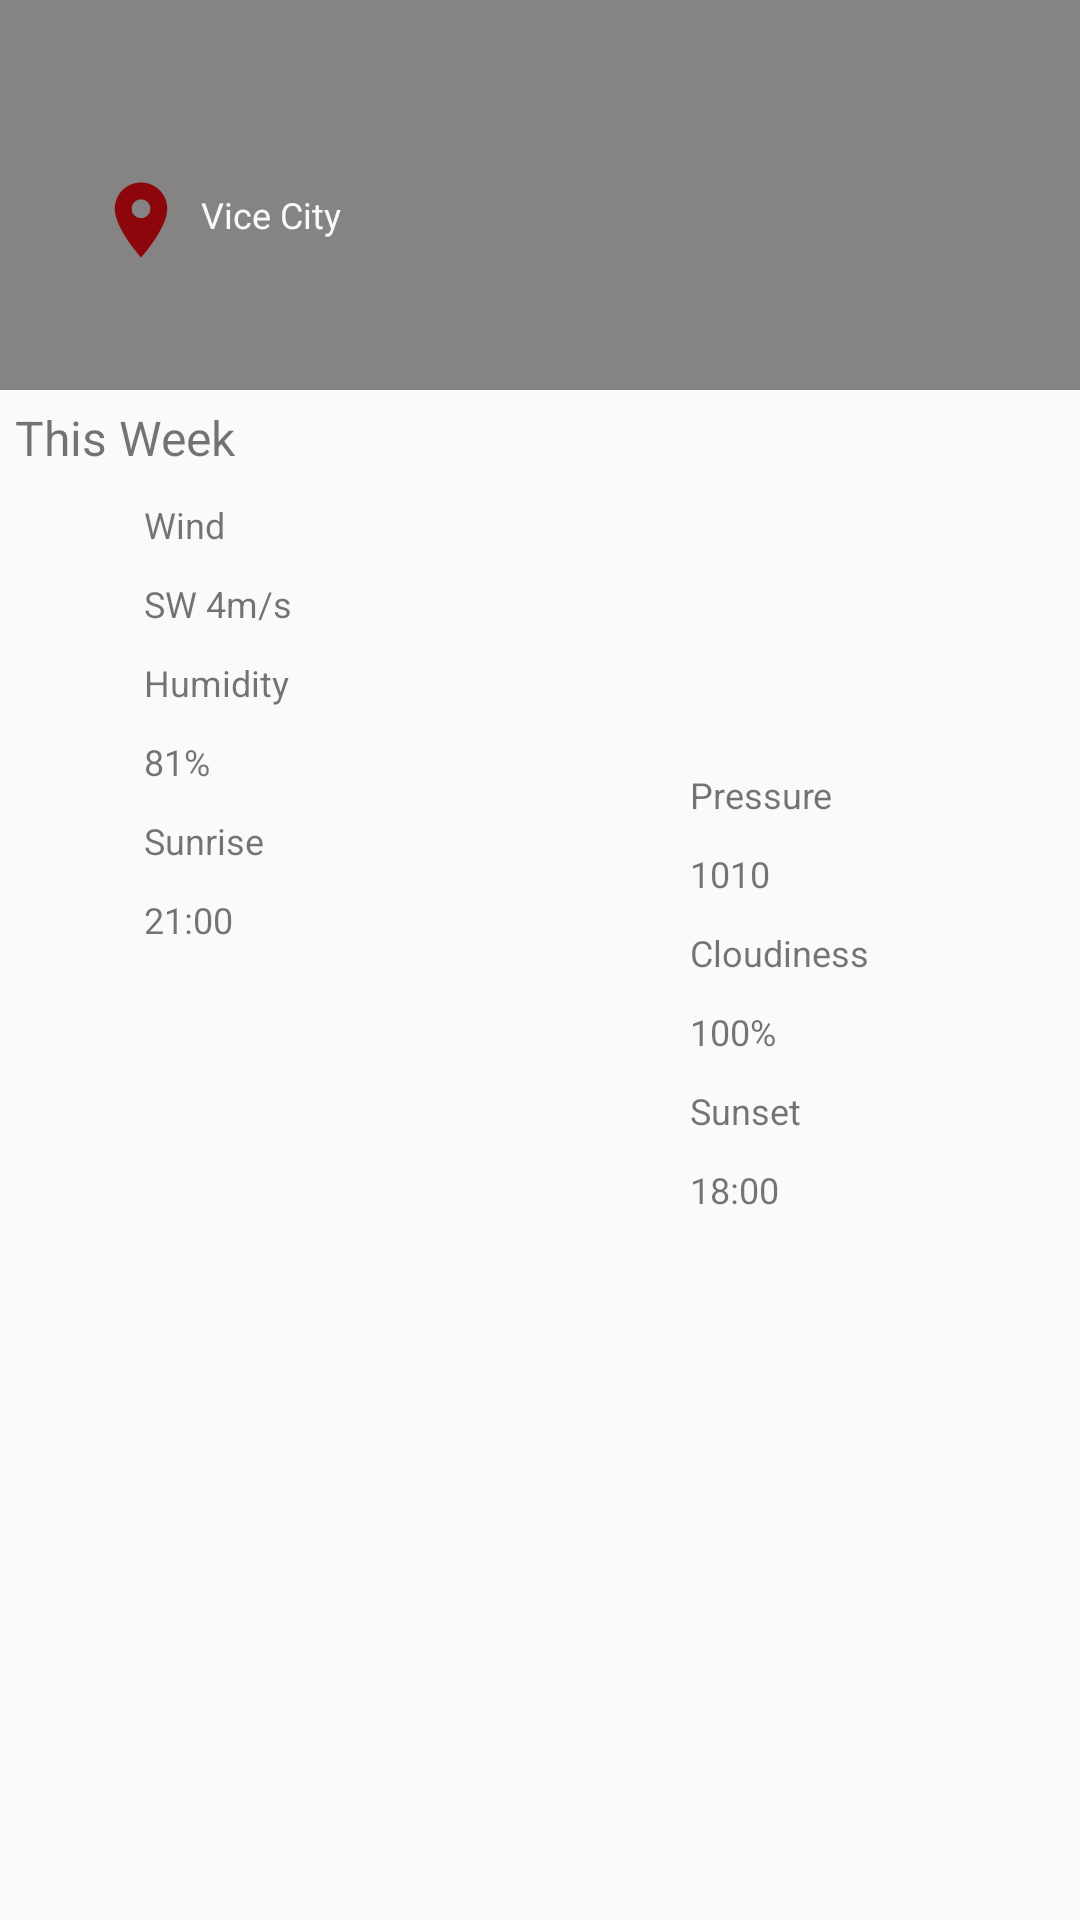

Named icons in this screenshot (1080px x 1920px) and their bounding boxes, (x1, y1, x2, y2):
location: (114, 182, 168, 257)
